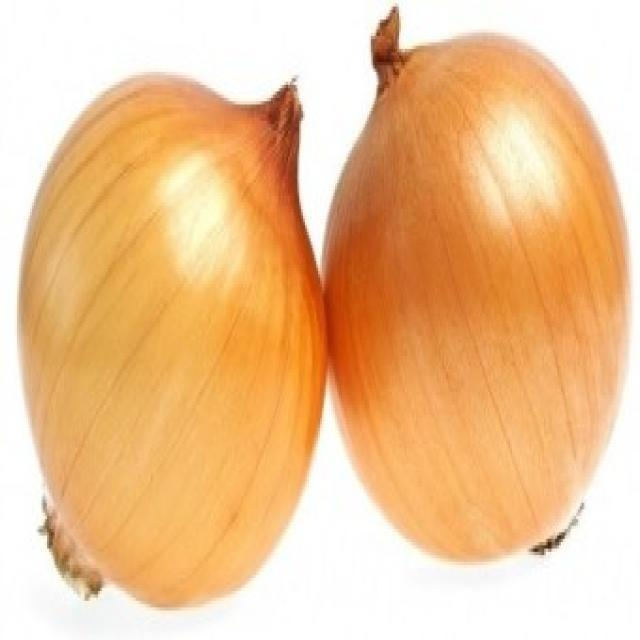onion: (321, 10, 634, 566), (16, 74, 330, 611)
